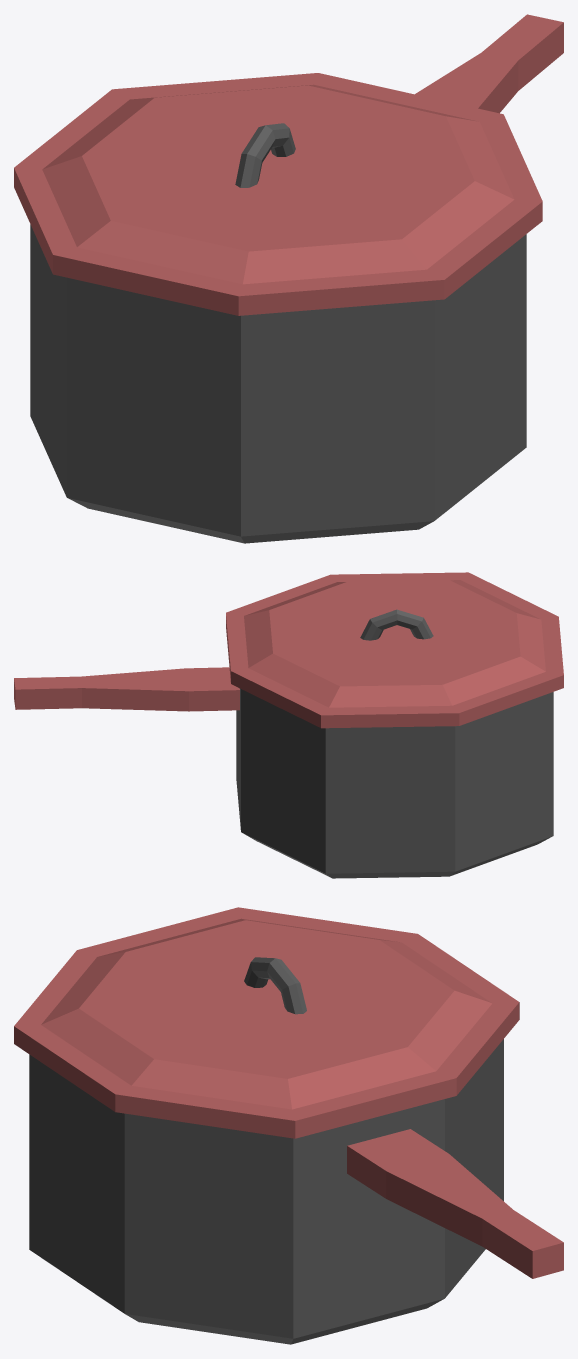
File: Kitchen_Saucepan.fbx
The picture shows the model from 3 angles, top to bottom: view 1: azimuth 30°, elevation 25°; view 2: azimuth 150°, elevation 25°; view 3: azimuth 270°, elevation 25°; orthographic projection. The views are drawn at different scales.
Parts seen in each view (by area): view 1: Kitchen_Saucepan; view 2: Kitchen_Saucepan; view 3: Kitchen_Saucepan.
Part boxes in pixels (box(x1,y1,x2,y2)): Kitchen_Saucepan: box(14, 14, 563, 543); Kitchen_Saucepan: box(14, 572, 563, 878); Kitchen_Saucepan: box(14, 907, 563, 1344).
Bounding box in the file's own units: 53.17 × 24.33 × 41.44.
